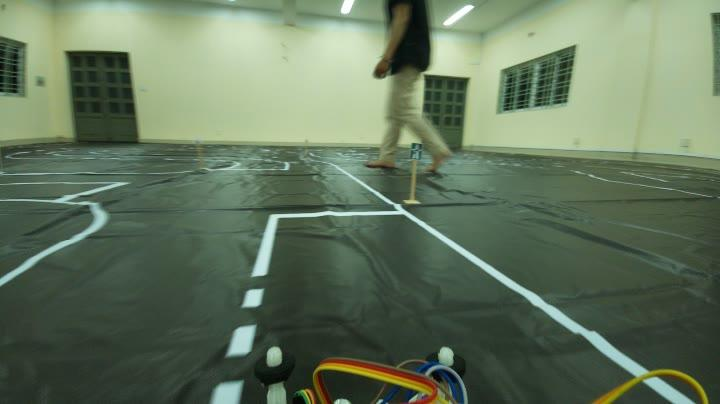highway_exit: (409, 139, 424, 165)
